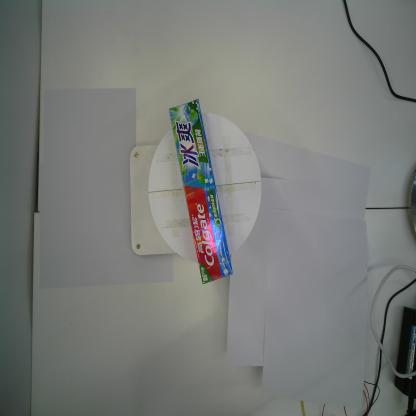Personal Hygiene: (168, 98, 233, 286)
